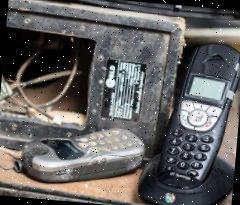electronic: (143, 24, 240, 205), (0, 114, 175, 205), (167, 30, 240, 205)
